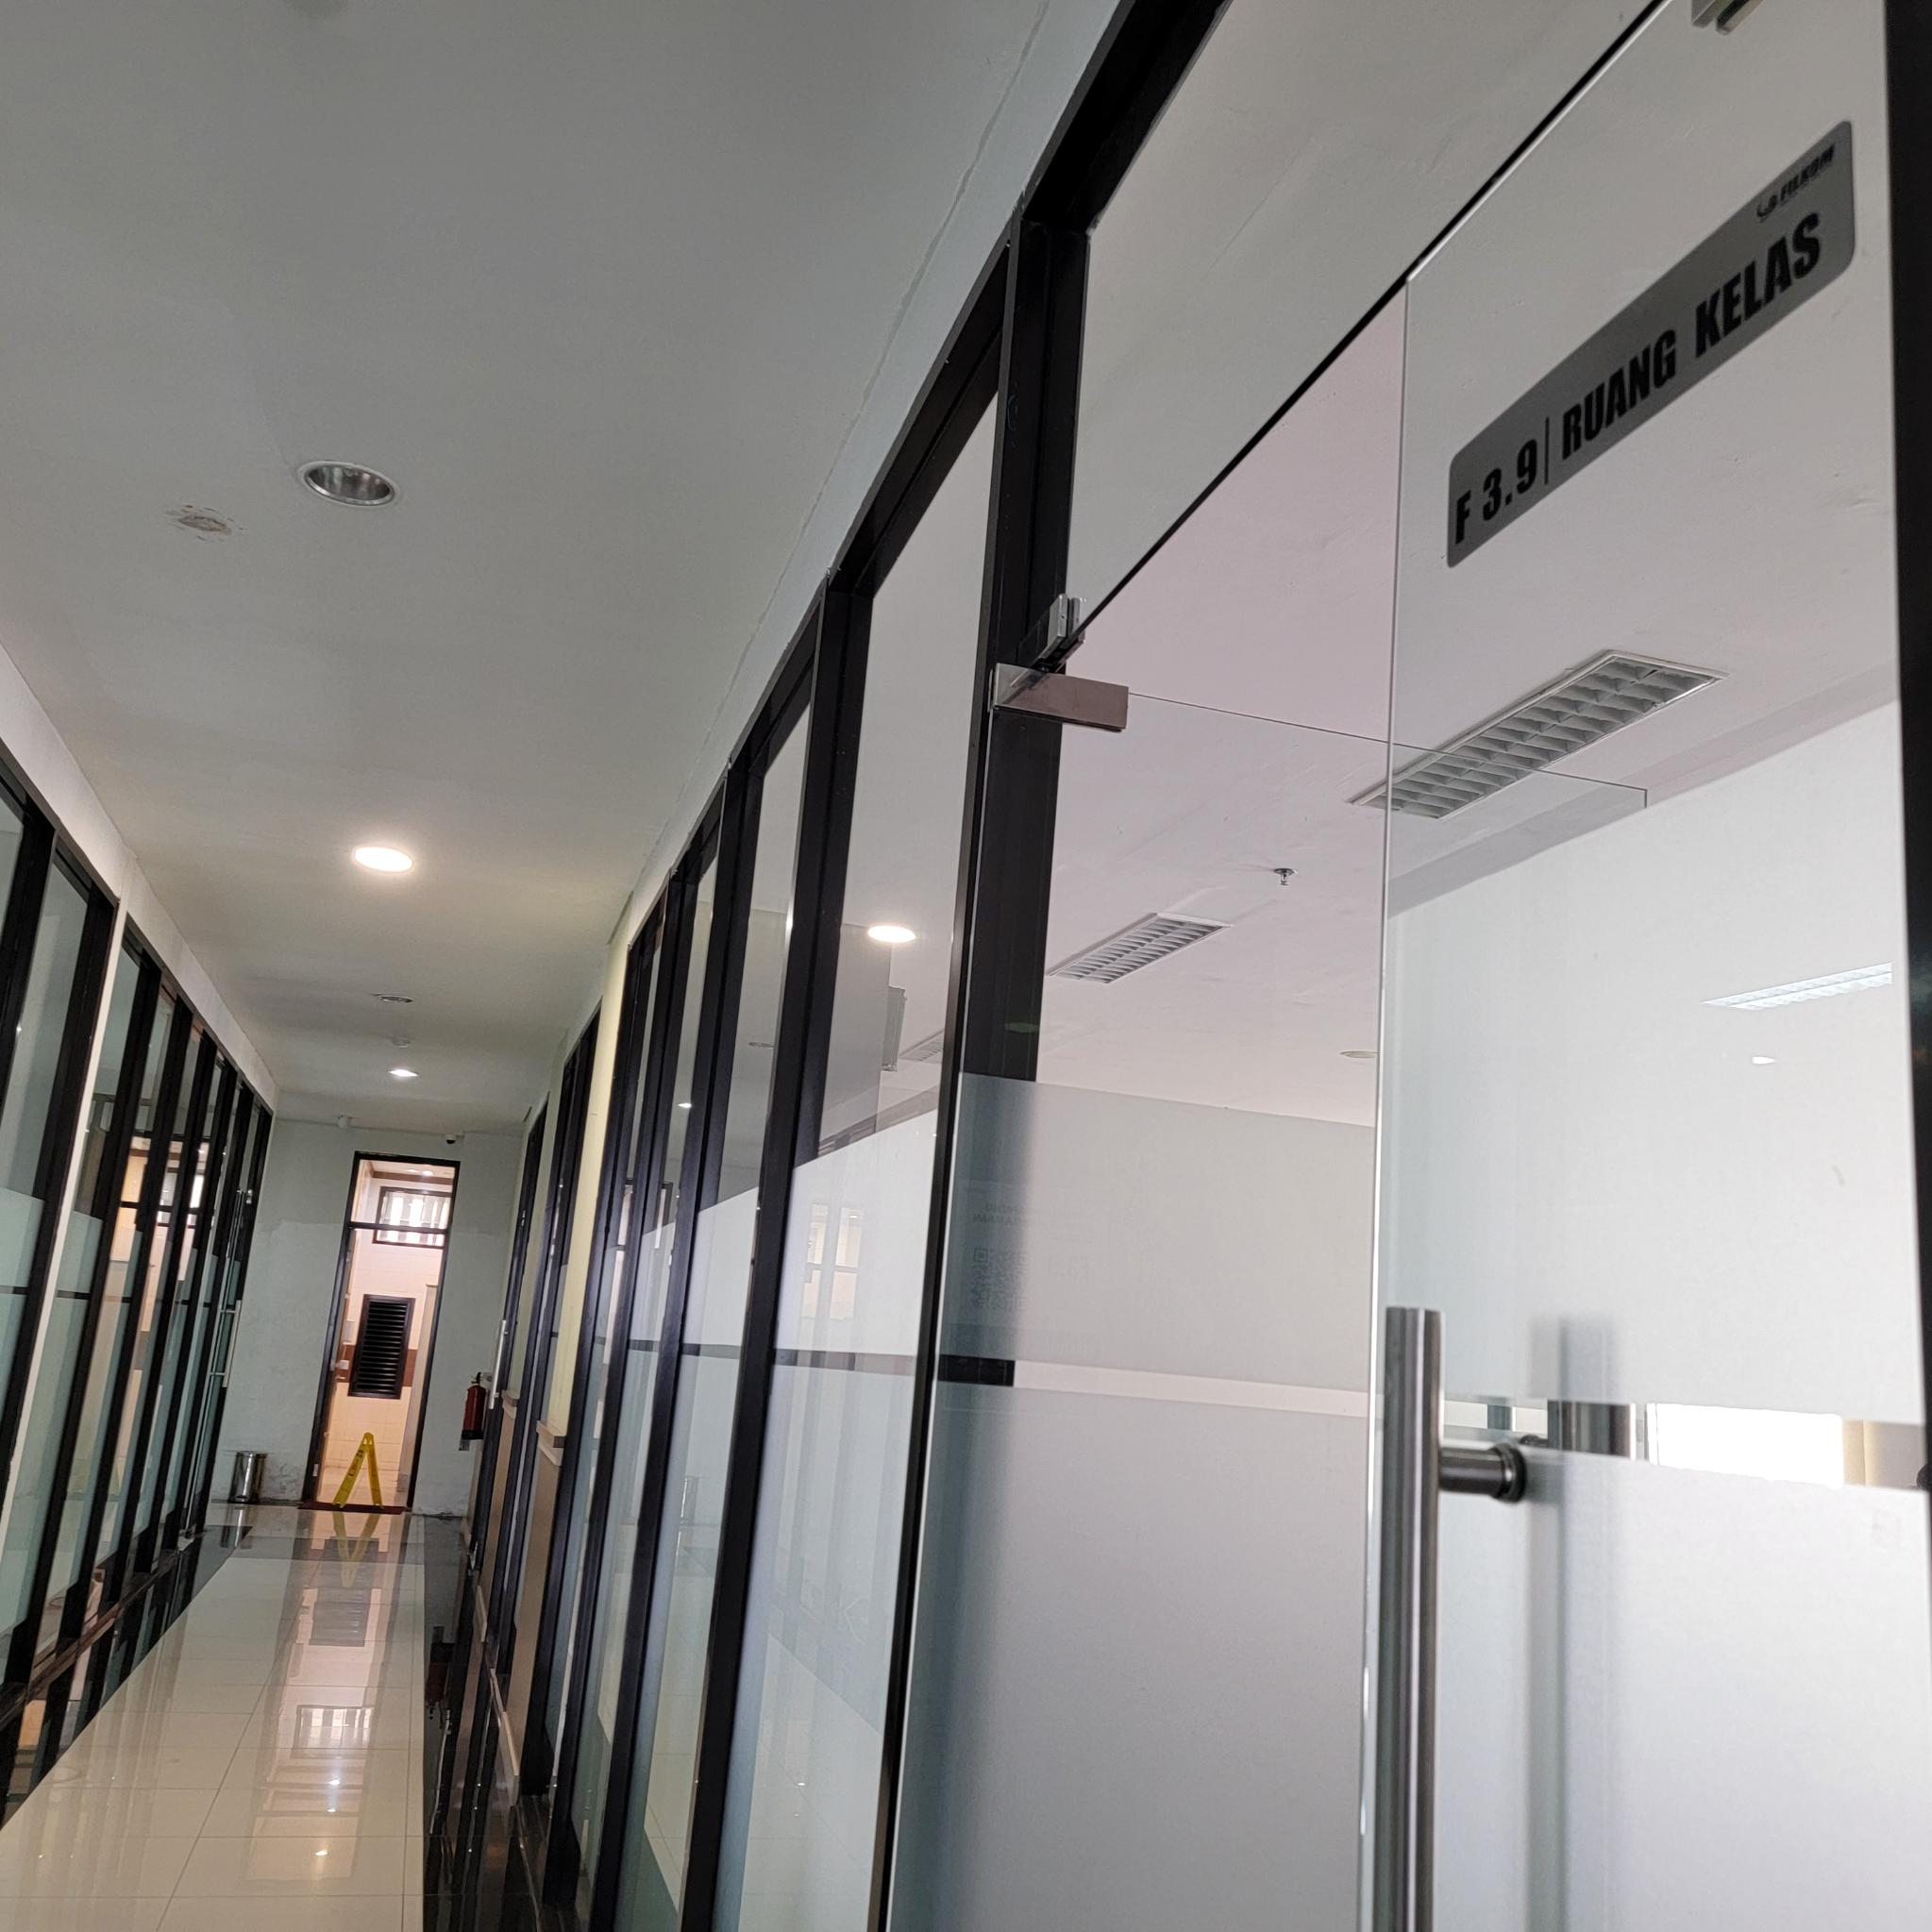plate: (1447, 115, 1859, 564)
